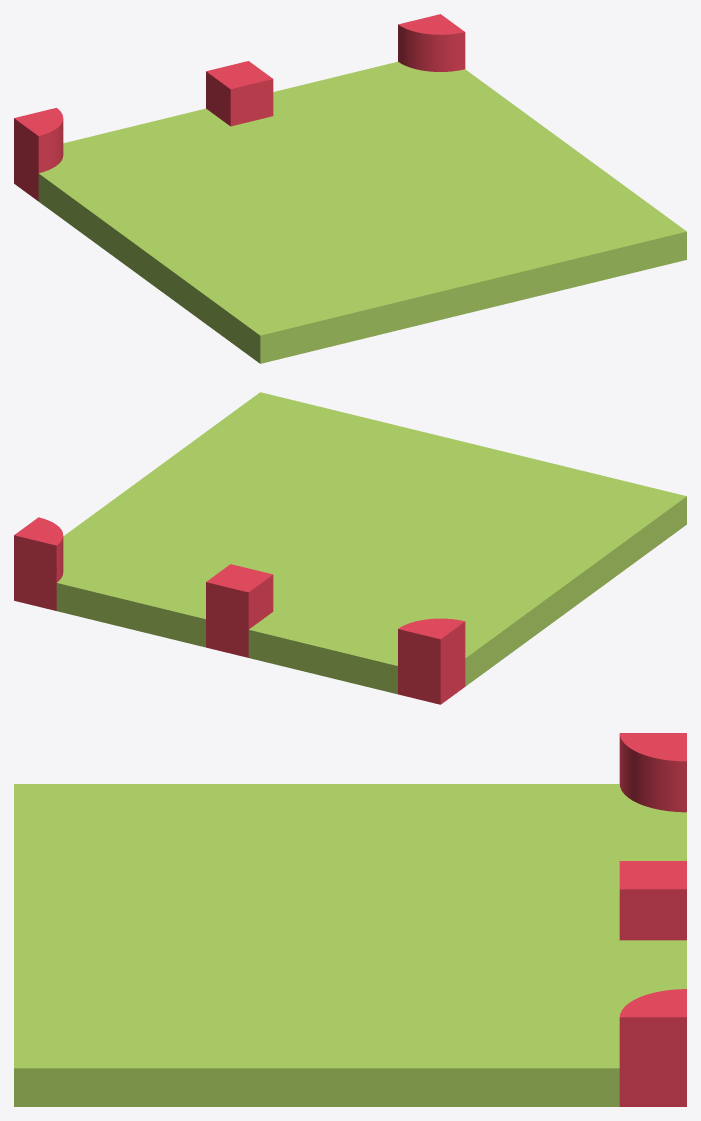
File: splitWallsToOpen.fbx
The picture shows the model from 3 angles, top to bottom: view 1: azimuth 30°, elevation 25°; view 2: azimuth 150°, elevation 25°; view 3: azimuth 270°, elevation 25°; orthographic projection. The views are drawn at different scales.
Parts seen in each view (by area): view 1: splitWallsToOpen; view 2: splitWallsToOpen; view 3: splitWallsToOpen.
Boxes of the visible parts, box(x1,y1,x2,y2) form: splitWallsToOpen: box(14, 14, 686, 363); splitWallsToOpen: box(14, 392, 686, 704); splitWallsToOpen: box(14, 733, 686, 1106).
Size of the model in its own units: 10 by 1.47 by 10.
